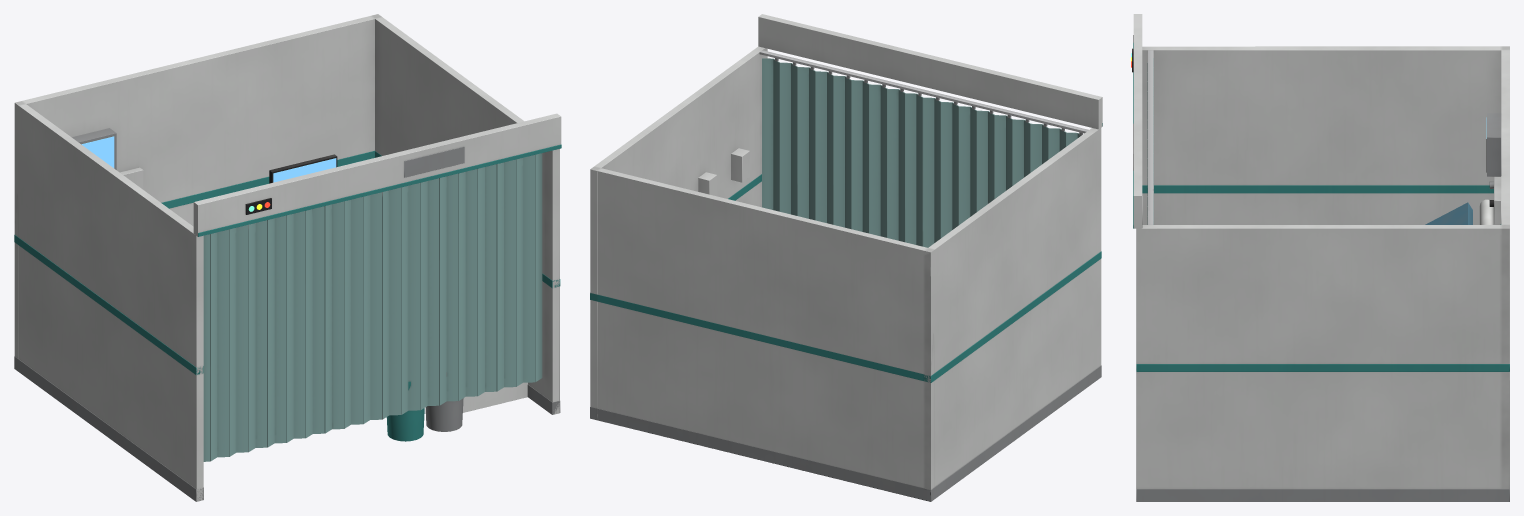
The model's file is ConsultationBox.fbx.
The picture shows the model from 3 angles, left to right: view 1: azimuth 30°, elevation 25°; view 2: azimuth 150°, elevation 25°; view 3: azimuth 270°, elevation 25°; orthographic projection. The views are drawn at different scales.
Parts seen in each view (by area): view 1: Body_LOD0, Curtain_LOD0; view 2: Body_LOD0, Curtain_LOD0; view 3: Body_LOD0.
Boxes of the visible parts, bbox=[...] form: Body_LOD0: bbox=[14, 14, 561, 501]; Curtain_LOD0: bbox=[203, 153, 542, 461]; Body_LOD0: bbox=[590, 14, 1102, 501]; Curtain_LOD0: bbox=[762, 58, 1082, 247]; Body_LOD0: bbox=[1133, 14, 1509, 501].
Size of what is drawn, in the model's own units: 3.01 by 2.35 by 2.64.
Materials: 1 (1 with a texture image).
